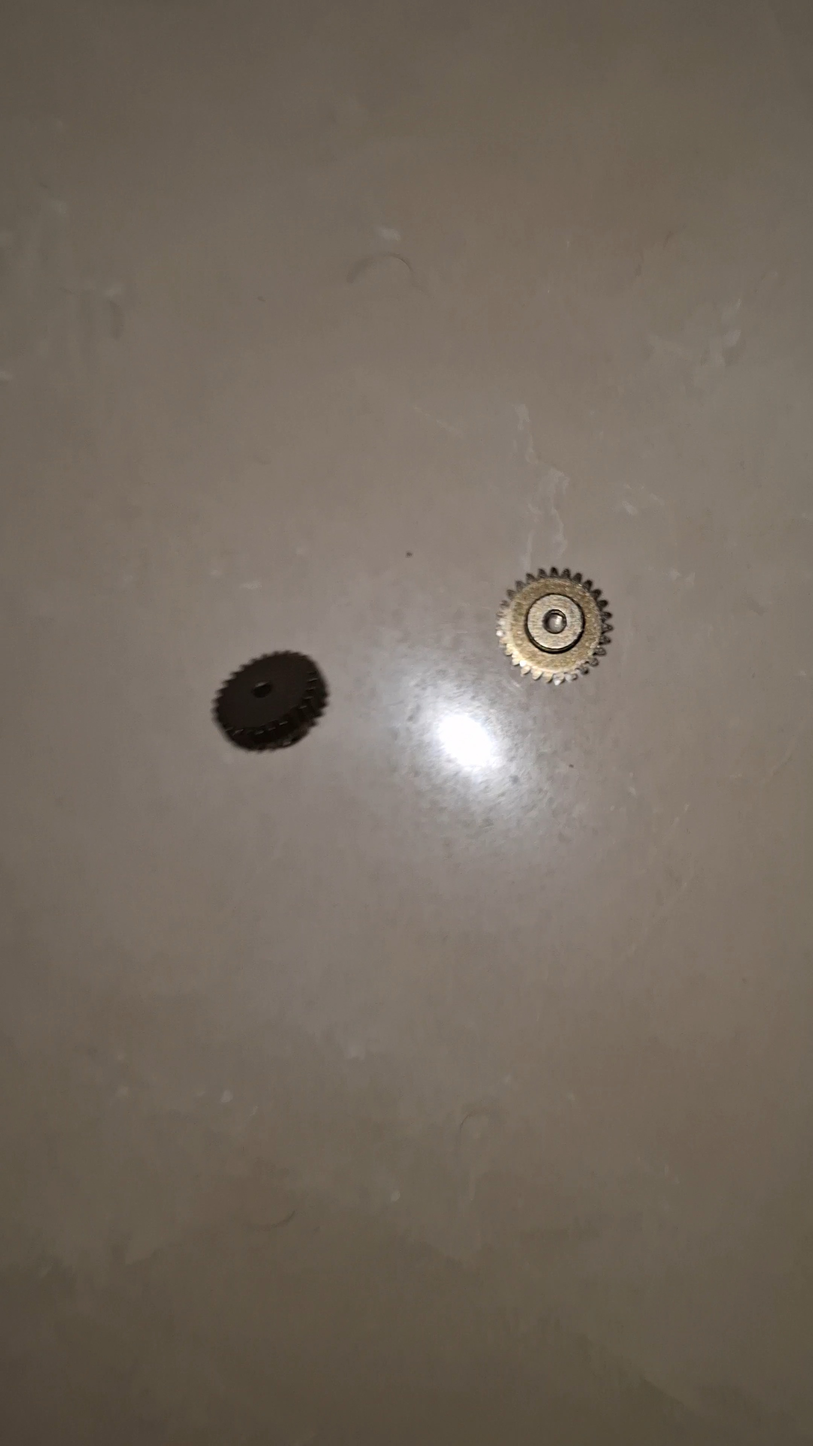spur gear: (497, 567, 612, 683), (213, 652, 326, 750)
